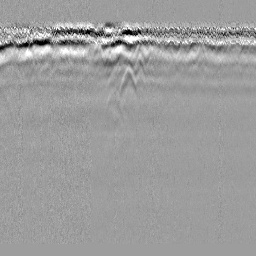cavity: (118, 63, 136, 95)
